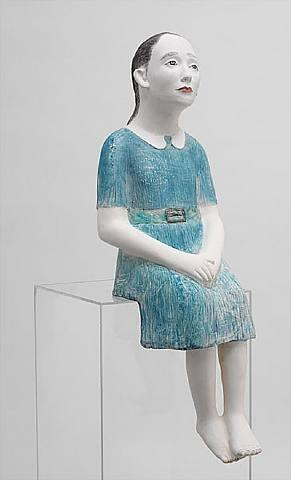person: (92, 29, 264, 466)
